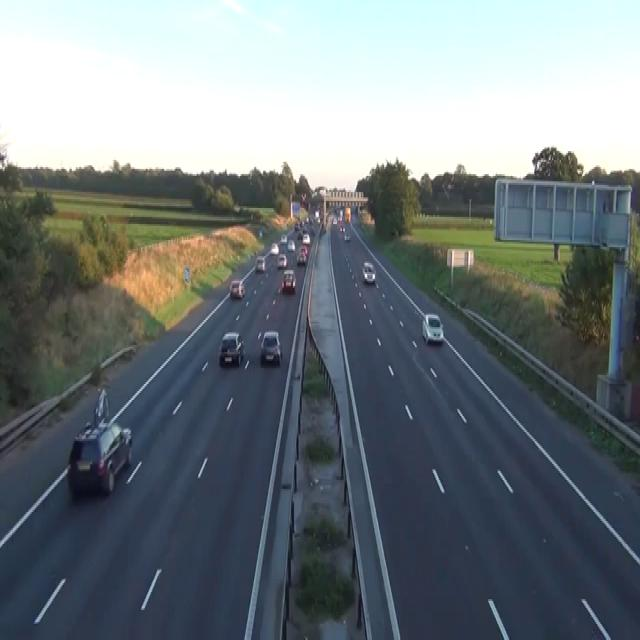Car: (67, 418, 132, 496), (218, 331, 245, 366), (259, 330, 282, 364), (421, 313, 443, 343), (93, 388, 109, 427), (281, 268, 296, 294), (229, 279, 245, 299), (362, 261, 375, 283), (296, 245, 307, 265), (255, 256, 265, 272), (277, 252, 287, 268), (300, 244, 308, 258), (270, 242, 279, 254), (287, 238, 295, 251), (302, 233, 310, 243), (280, 233, 287, 243), (344, 231, 350, 242), (305, 215, 312, 224), (339, 224, 345, 233), (297, 230, 303, 238), (332, 215, 337, 224), (321, 224, 326, 233), (294, 222, 299, 231), (258, 228, 262, 236)
